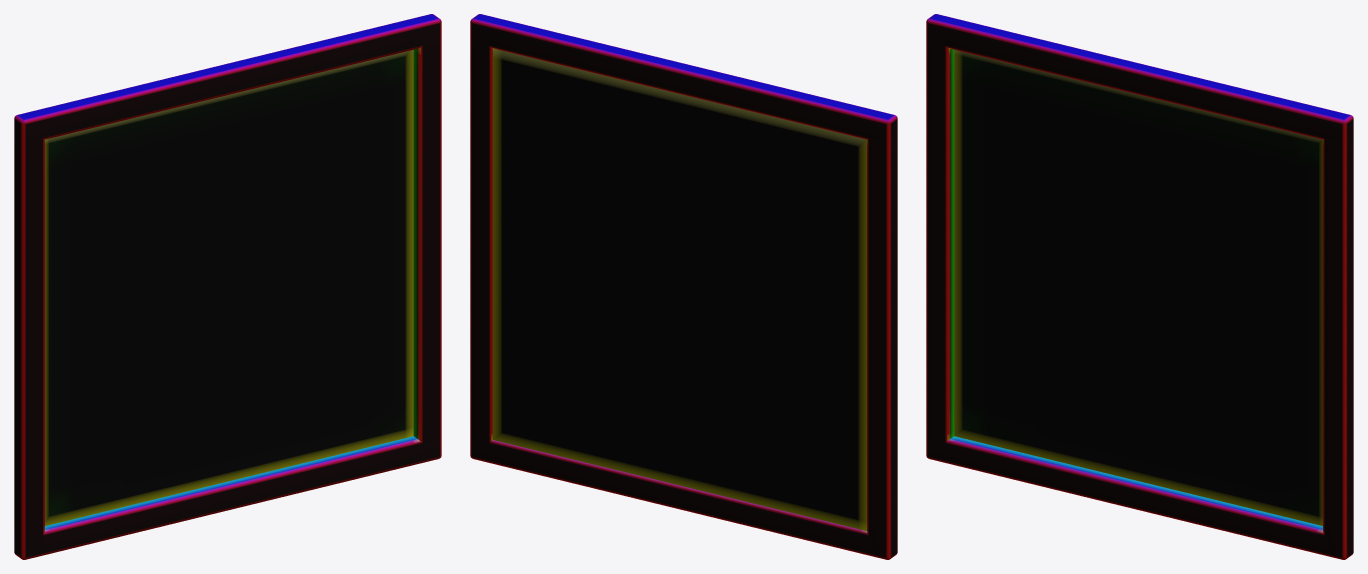
File: prop_poster_frame.fbx
3 renders of one model, left to right at view 1: azimuth 30°, elevation 25°; view 2: azimuth 150°, elevation 25°; view 3: azimuth 330°, elevation 25°, orthographic.
Visible parts, largest first — view 1: prop_poster_frame; view 2: prop_poster_frame; view 3: prop_poster_frame.
Part boxes in pixels (<box>): prop_poster_frame: <box>14,14,441,559</box>; prop_poster_frame: <box>470,14,897,559</box>; prop_poster_frame: <box>926,14,1353,559</box>.
Size of the model in its own units: 0.62 by 0.62 by 0.025.
